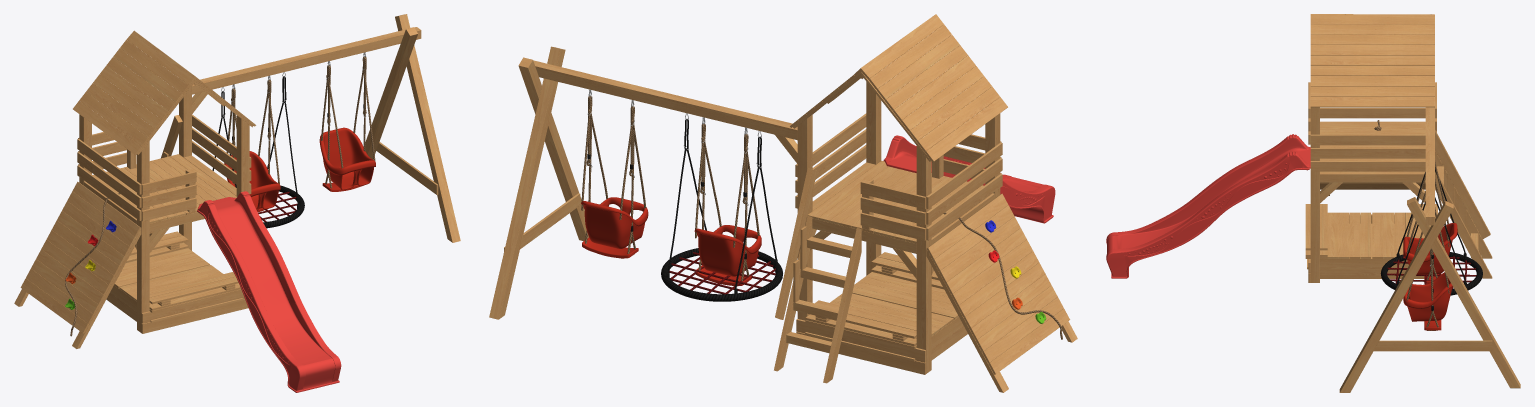
File: wooden-boyz-aurelia.glb
3 views of the same model, side by side, from view 1: azimuth 30°, elevation 25°; view 2: azimuth 150°, elevation 25°; view 3: azimuth 270°, elevation 25° (orthographic). The views are drawn at different scales.
Parts seen in each view (by area): view 1: aurelia-konstrukcja, GRUPA-zjezdzalnia, GRUPA-hustawka-kubelek-b, GRUPA-aurelia-piaskownica-zamknieta, GRUPA-aurelia-piaskownica, GRUPA-aurelia-zamkniecie, GRUPA-hustawka-kubelek-a, GRUPA-hustawka-gniazdo-a, GRUPA-aurelia-piaskownica-bok, GRUPA-hustawka-deska-b, GRUPA-hustawka-deska-a, GRUPA-aurelia-balustrada (+1 smaller); view 2: aurelia-konstrukcja, GRUPA-hustawka-gniazdo-a, GRUPA-aurelia-piaskownica-zamknieta, GRUPA-hustawka-kubelek-b, GRUPA-hustawka-kubelek-a, GRUPA-aurelia-zamkniecie, GRUPA-aurelia-piaskownica, GRUPA-zjezdzalnia, GRUPA-aurelia-balustrada, GRUPA-aurelia-piaskownica-bok, GRUPA-hustawka-deska-b, GRUPA-hustawka-deska-a (+1 smaller); view 3: aurelia-konstrukcja, GRUPA-zjezdzalnia, GRUPA-aurelia-piaskownica-zamknieta, GRUPA-hustawka-kubelek-b, GRUPA-hustawka-gniazdo-a, GRUPA-aurelia-balustrada, GRUPA-hustawka-kubelek-a, GRUPA-aurelia-zamkniecie, GRUPA-aurelia-piaskownica, GRUPA-aurelia-piaskownica-bok, GRUPA-hustawka-deska-b.
Part boxes in pixels (bbox=[...]): aurelia-konstrukcja: bbox=[14, 14, 460, 348]; GRUPA-zjezdzalnia: bbox=[197, 191, 341, 392]; GRUPA-hustawka-kubelek-b: bbox=[319, 52, 375, 190]; GRUPA-aurelia-piaskownica-zamknieta: bbox=[114, 248, 240, 312]; GRUPA-aurelia-piaskownica: bbox=[125, 231, 241, 312]; GRUPA-aurelia-zamkniecie: bbox=[77, 139, 141, 220]; GRUPA-hustawka-kubelek-a: bbox=[224, 76, 280, 210]; GRUPA-hustawka-gniazdo-a: bbox=[212, 72, 304, 228]; GRUPA-aurelia-piaskownica-bok: bbox=[110, 285, 244, 323]; GRUPA-hustawka-deska-b: bbox=[322, 52, 366, 191]; GRUPA-hustawka-deska-a: bbox=[232, 75, 271, 212]; GRUPA-aurelia-balustrada: bbox=[161, 115, 182, 158]; aurelia-konstrukcja: bbox=[489, 14, 1077, 392]; GRUPA-hustawka-gniazdo-a: bbox=[661, 113, 782, 301]; GRUPA-aurelia-piaskownica-zamknieta: bbox=[805, 272, 958, 348]; GRUPA-hustawka-kubelek-b: bbox=[581, 89, 648, 248]; GRUPA-hustawka-kubelek-a: bbox=[694, 117, 761, 276]; GRUPA-aurelia-zamkniecie: bbox=[926, 142, 1002, 240]; GRUPA-aurelia-piaskownica: bbox=[805, 252, 943, 347]; GRUPA-zjezdzalnia: bbox=[883, 135, 1055, 223]; GRUPA-aurelia-balustrada: bbox=[775, 168, 817, 319]; GRUPA-aurelia-piaskownica-bok: bbox=[796, 317, 962, 362]; GRUPA-hustawka-deska-b: bbox=[582, 90, 638, 258]; GRUPA-hustawka-deska-a: bbox=[695, 117, 751, 286]; aurelia-konstrukcja: bbox=[1308, 14, 1520, 392]; GRUPA-zjezdzalnia: bbox=[1106, 134, 1310, 278]; GRUPA-aurelia-piaskownica-zamknieta: bbox=[1327, 212, 1415, 258]; GRUPA-hustawka-kubelek-b: bbox=[1403, 207, 1452, 321]; GRUPA-hustawka-gniazdo-a: bbox=[1380, 169, 1482, 295]; GRUPA-aurelia-balustrada: bbox=[1435, 130, 1490, 238]; GRUPA-hustawka-kubelek-a: bbox=[1403, 161, 1457, 274]; GRUPA-aurelia-zamkniecie: bbox=[1320, 107, 1425, 118]; GRUPA-aurelia-piaskownica: bbox=[1305, 204, 1437, 258]; GRUPA-aurelia-piaskownica-bok: bbox=[1308, 214, 1408, 272]; GRUPA-hustawka-deska-b: bbox=[1424, 248, 1441, 330].
Size of the model in its own units: 4.47 by 2.59 by 4.
Materials: 20 (12 with a texture image).
